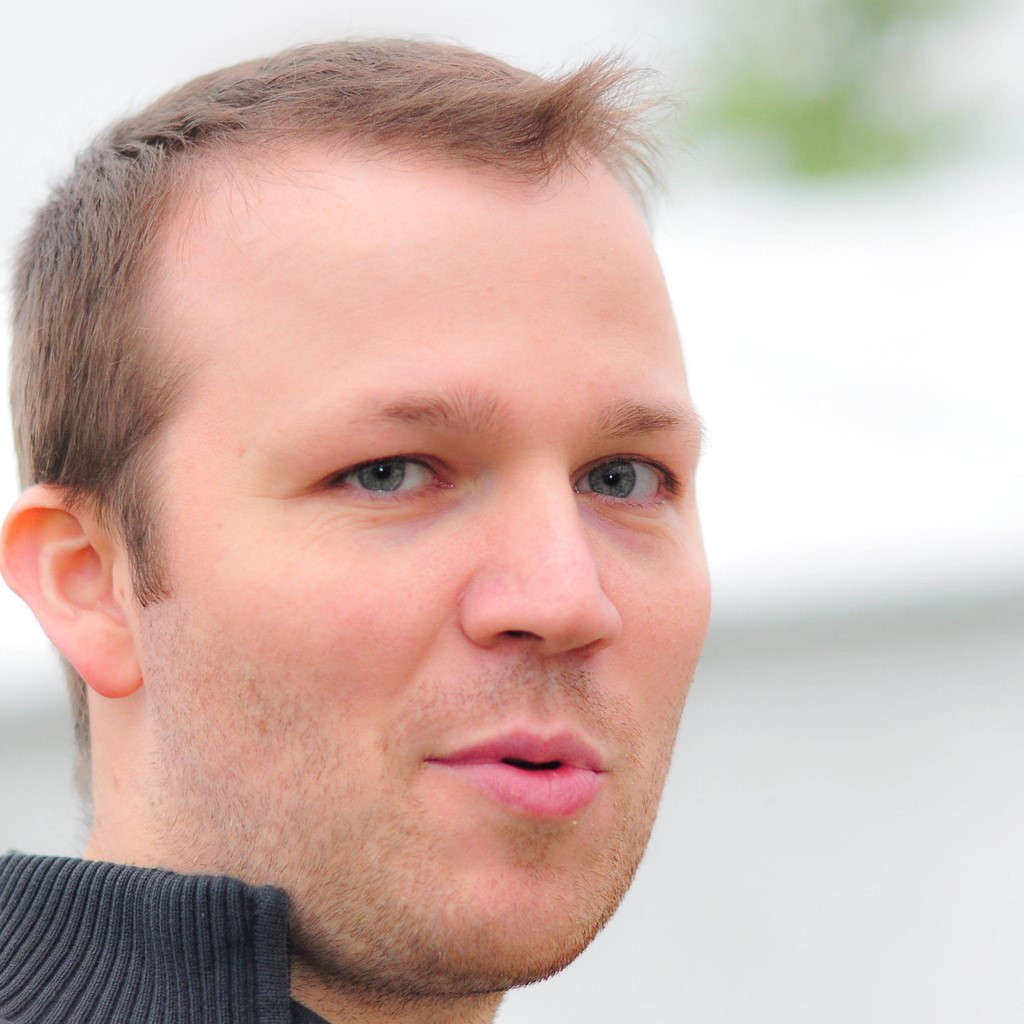sin_mascara: (53, 111, 706, 995)
